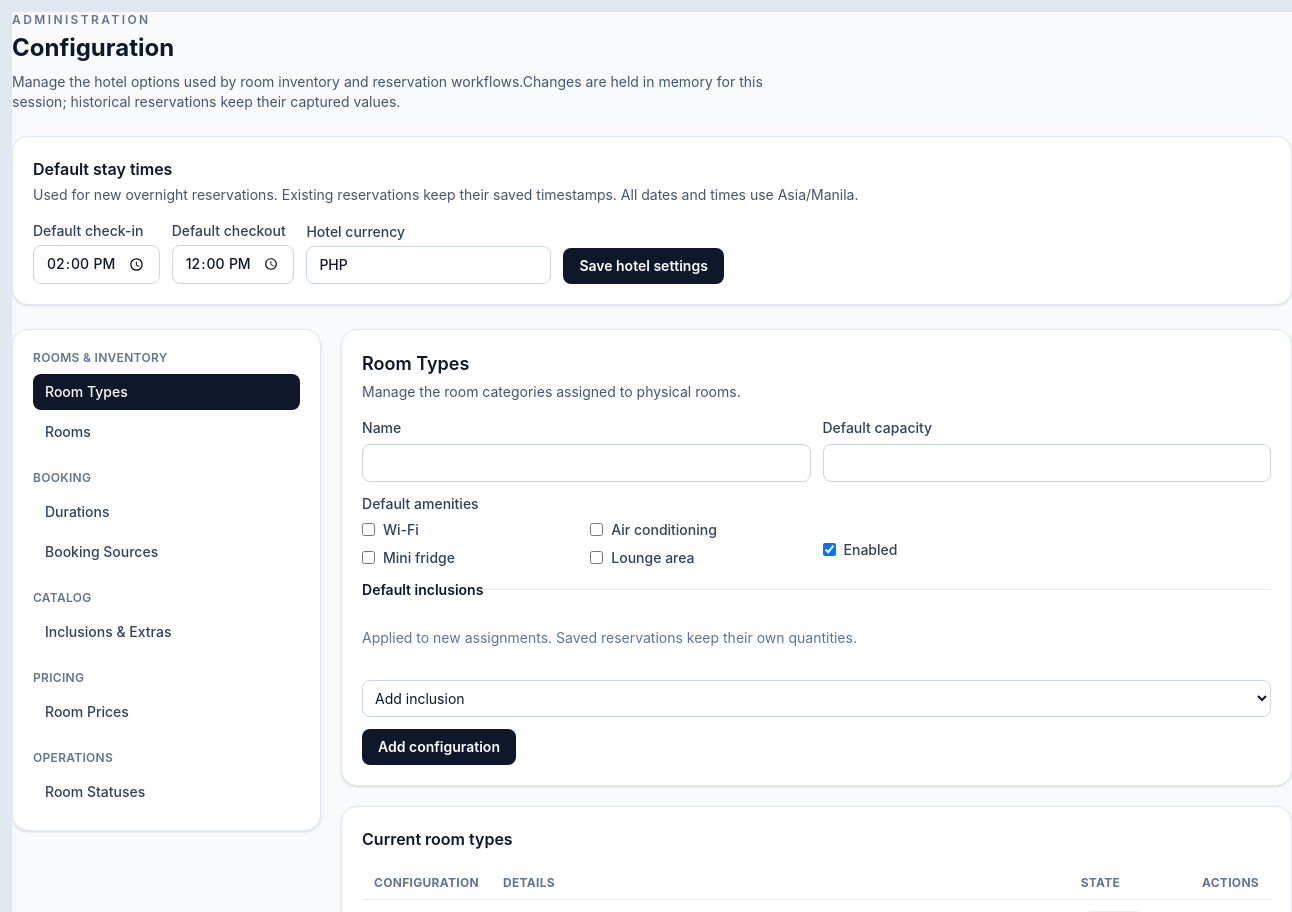
Test: hotel configuration › saves the configurable default overnight times
Replace the text in the time field labelled "Default check-in" with "15:00": coordinates (96, 264) [33,245,160,284]
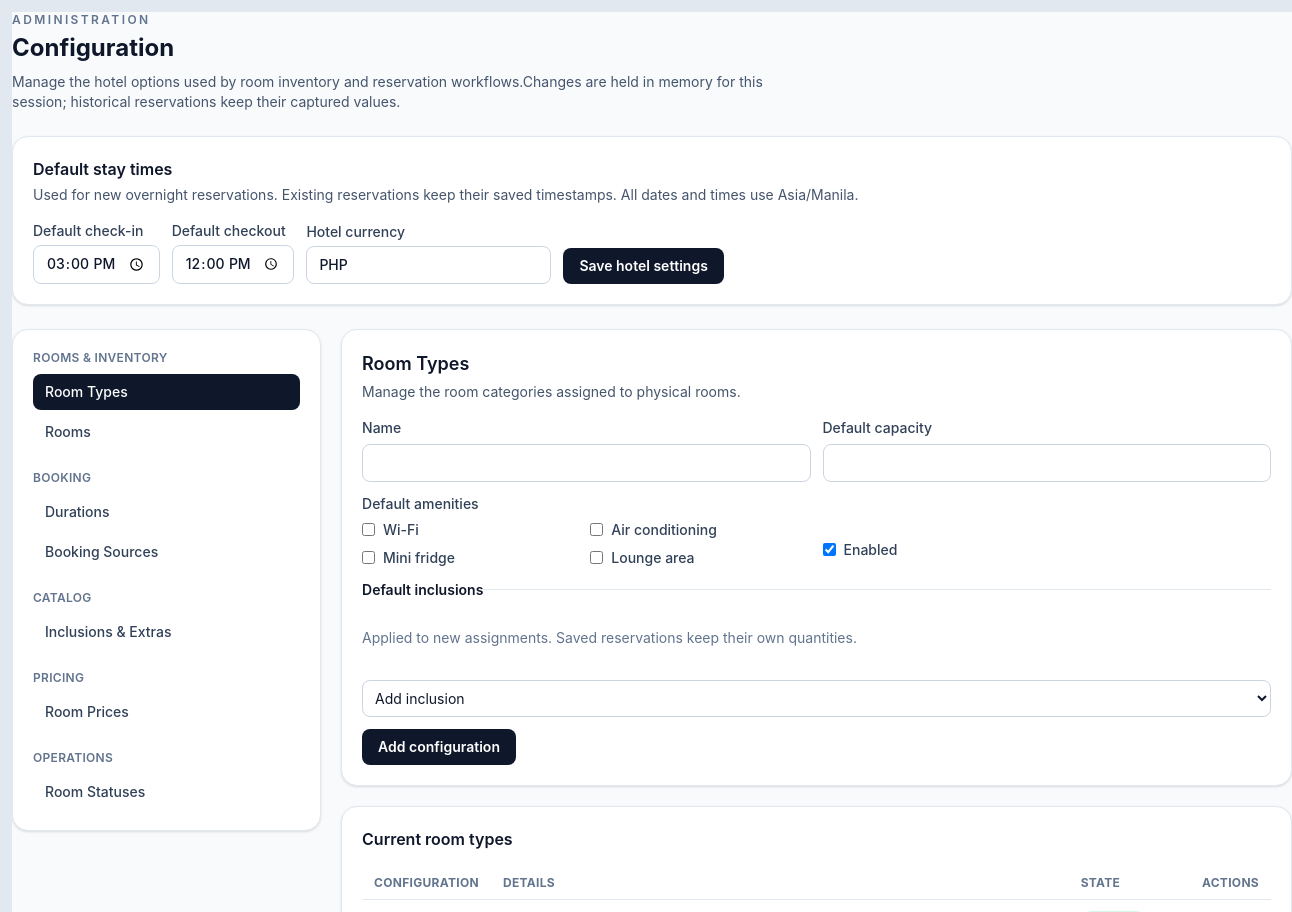
Replace the text in the time field labelled "Default checkout" with "11:00": coordinates (233, 264) [172,245,294,284]
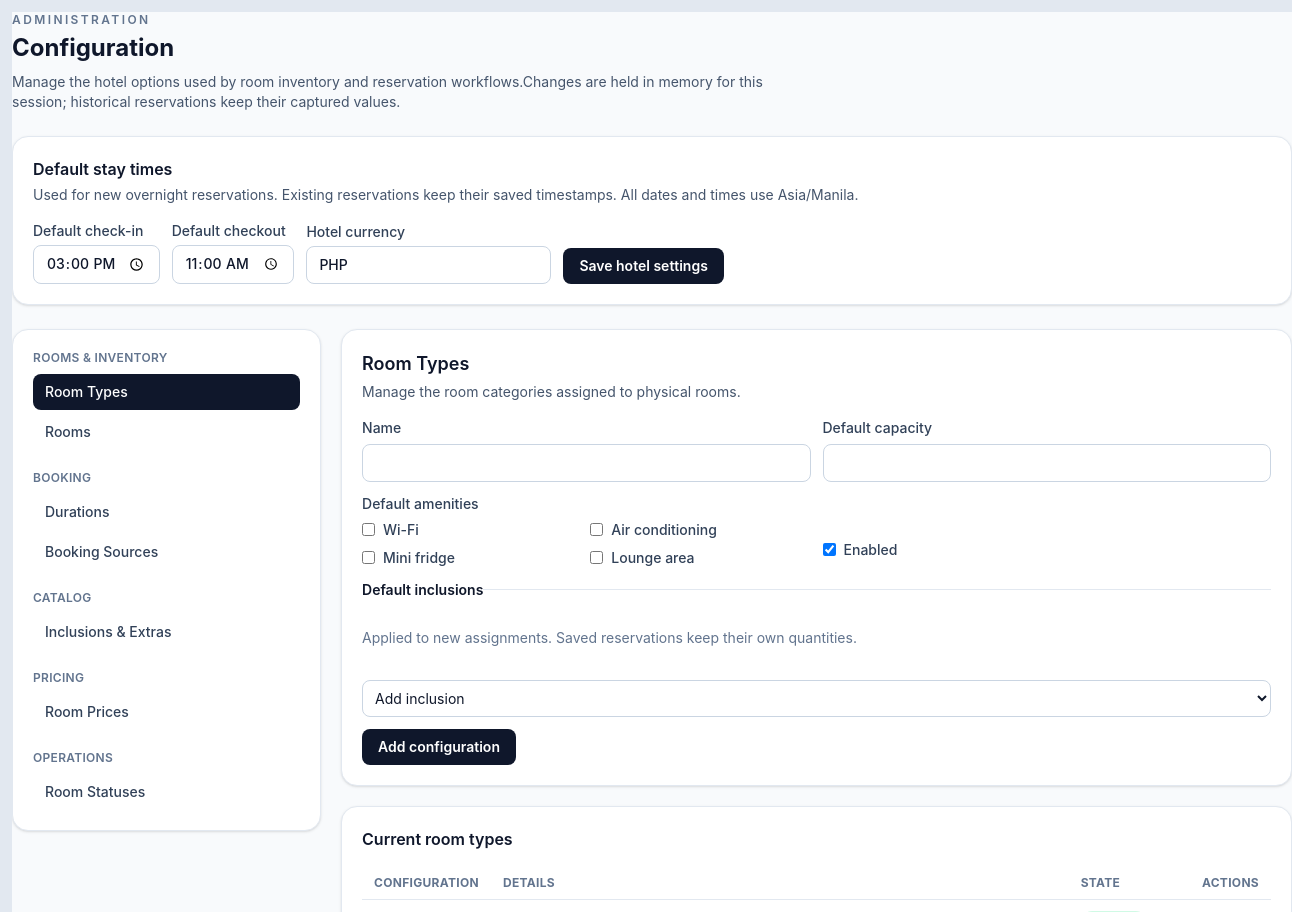
Click the button "Save hotel settings": coordinates (644, 266) [563,248,724,284]
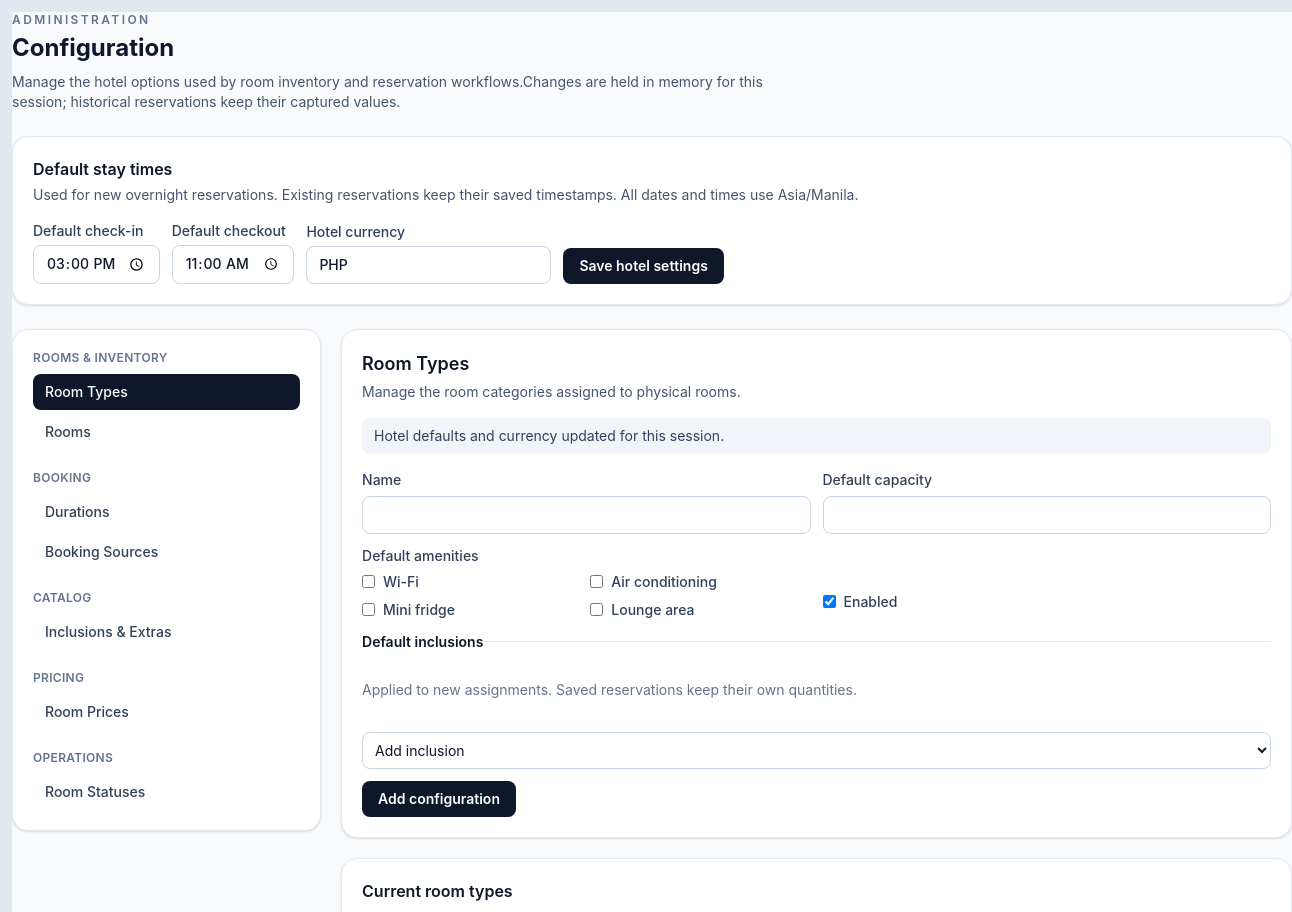
Check: the message shows "Hotel defaults and currency updated", box [374,427,724,444]
